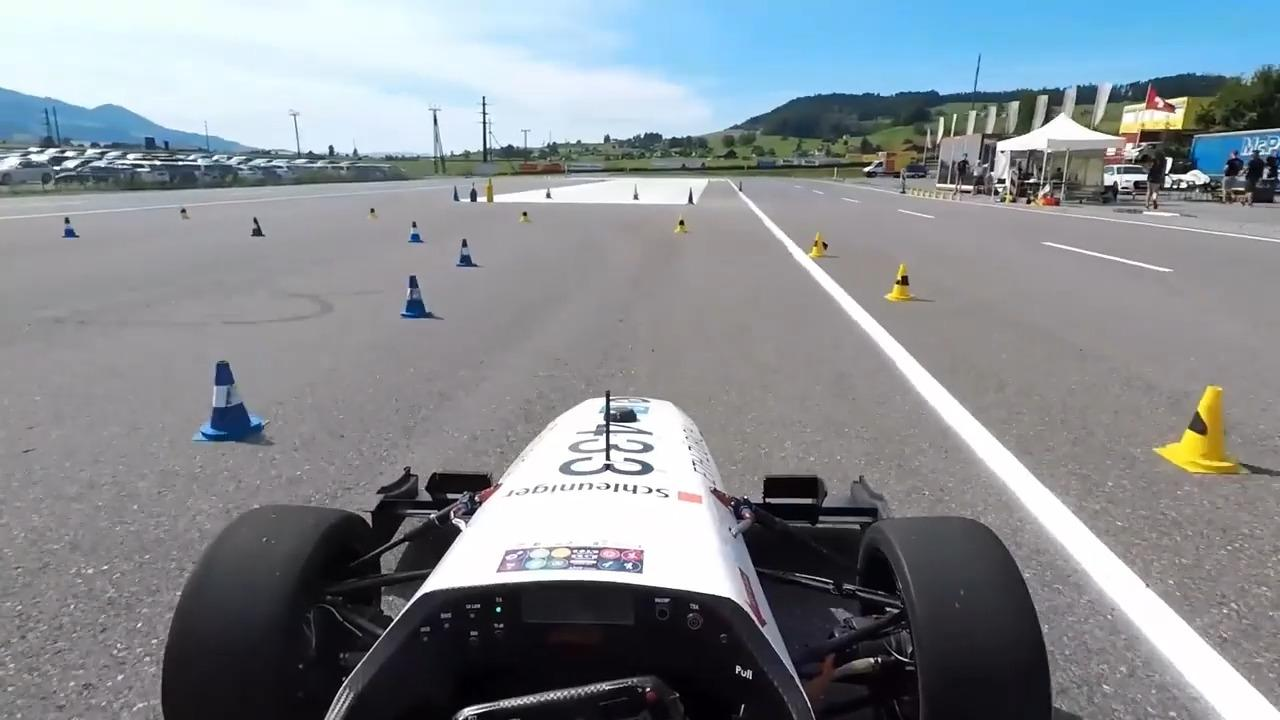blue_cone: (198, 354, 264, 445), (396, 275, 431, 320), (451, 234, 478, 269), (57, 213, 79, 240), (405, 220, 425, 245), (246, 214, 263, 237)
yellow_cone: (1153, 370, 1247, 480), (886, 262, 916, 302), (809, 228, 827, 259), (670, 213, 688, 236), (517, 205, 531, 224), (178, 202, 189, 225), (365, 205, 378, 223)
